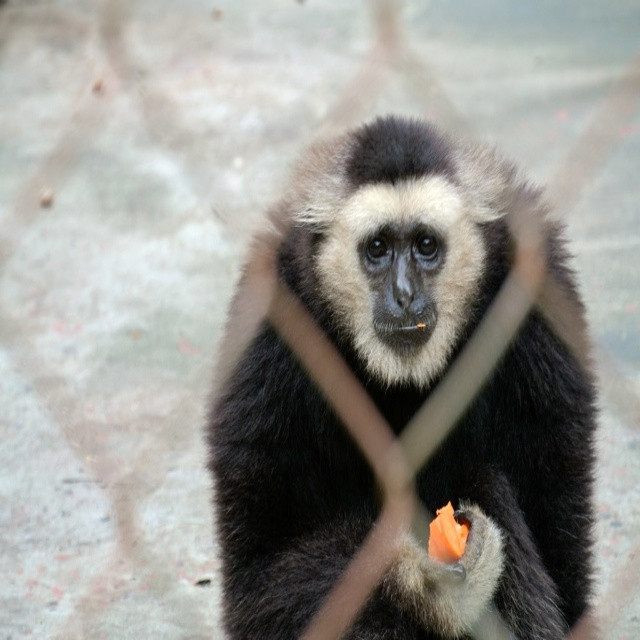Monkey: (201, 112, 602, 640)
